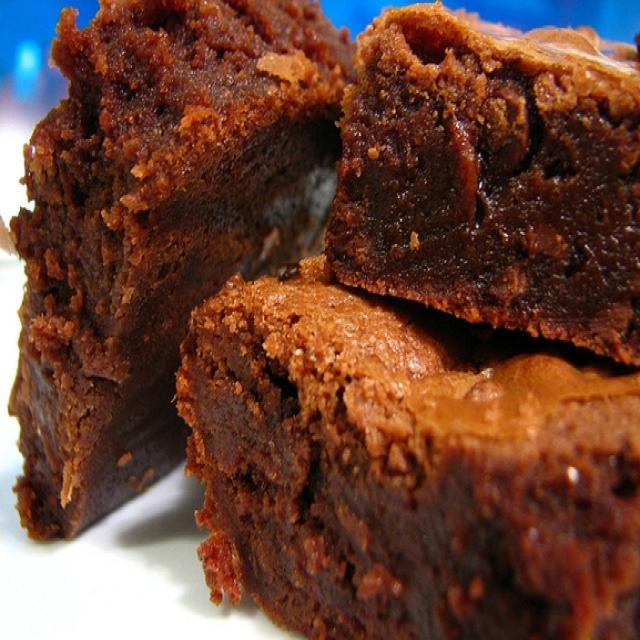蛋糕甜品: (10, 11, 616, 604)
